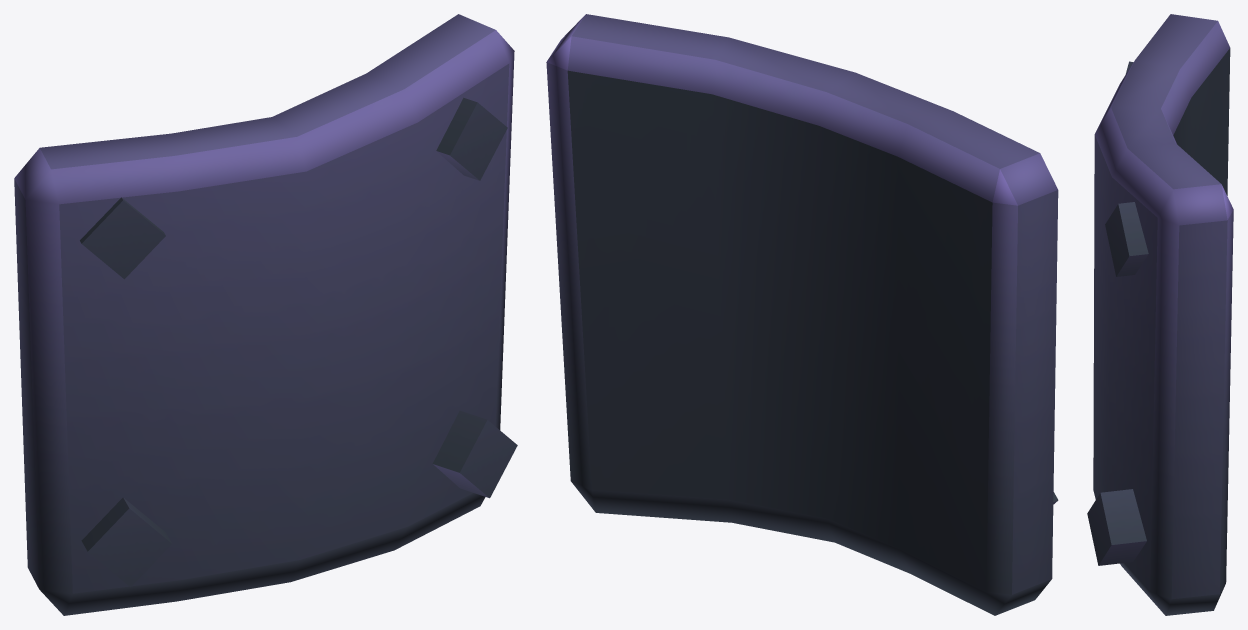
File: undead_metal_plate.fbx
The picture shows the model from 3 angles, left to right: view 1: azimuth 30°, elevation 25°; view 2: azimuth 150°, elevation 25°; view 3: azimuth 270°, elevation 25°; orthographic projection. The views are drawn at different scales.
Parts seen in each view (by area): view 1: undead_metal_plate; view 2: undead_metal_plate; view 3: undead_metal_plate.
Boxes of the visible parts, left/top/right/bottom form: undead_metal_plate: left=14, top=14, right=517, bottom=615; undead_metal_plate: left=546, top=14, right=1058, bottom=615; undead_metal_plate: left=1087, top=14, right=1233, bottom=615.
Size of the model in its own units: 2.03 by 1.89 by 0.5659.
